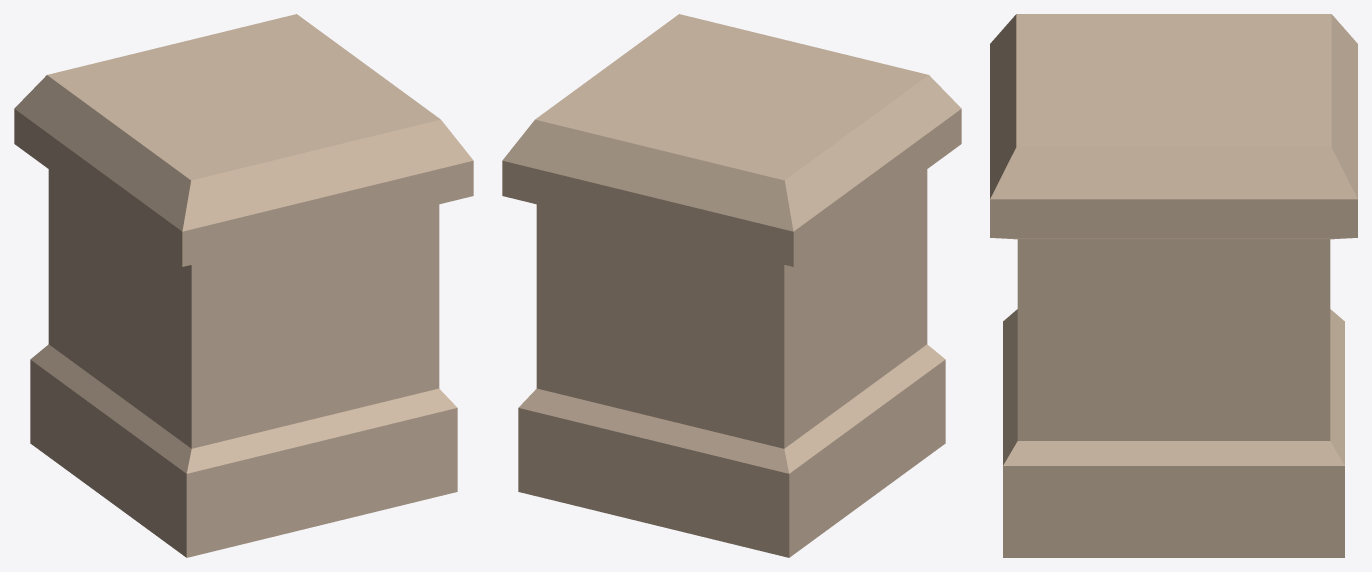
File: BC_Pillar_E.fbx
3 renders of one model, left to right at view 1: azimuth 30°, elevation 25°; view 2: azimuth 150°, elevation 25°; view 3: azimuth 270°, elevation 25°, orthographic. The views are drawn at different scales.
Parts seen in each view (by area): view 1: BC_Pillar_E; view 2: BC_Pillar_E; view 3: BC_Pillar_E.
Part boxes in pixels (bbox=[...]): BC_Pillar_E: bbox=[14, 14, 473, 557]; BC_Pillar_E: bbox=[502, 14, 961, 557]; BC_Pillar_E: bbox=[990, 14, 1357, 557].
Size of the model in its own units: 118 by 143 by 118.
